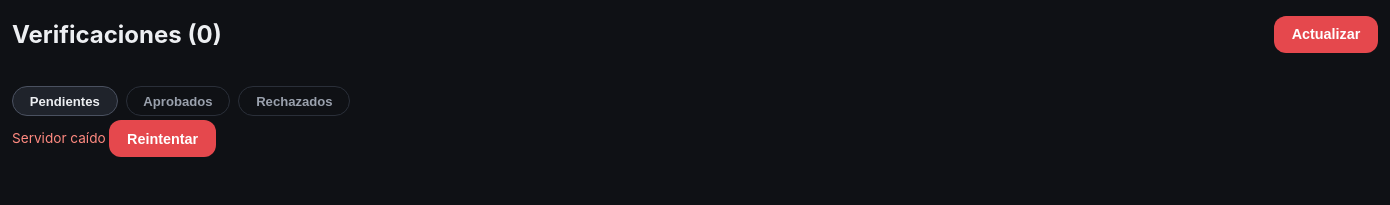
VerificationsPage › si la API falla muestra el error y Reintentar vuelve a pedir (G4)
Expected: the text "Servidor caído Reintentar" is shown, [12,120,216,157]
What coordinates should you click on to do the following:
click the button with aria-label "Reintentar la carga"
I would click on:
 (163, 139)
Its box is [110,120,216,157].
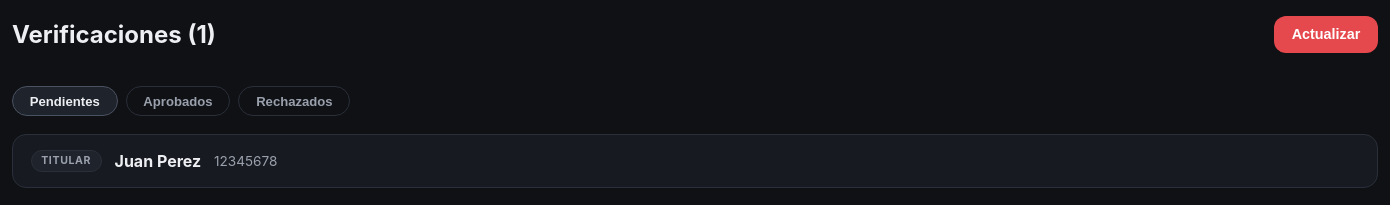
Expected: the text "Juan Perez" is shown, [114,151,201,171]
